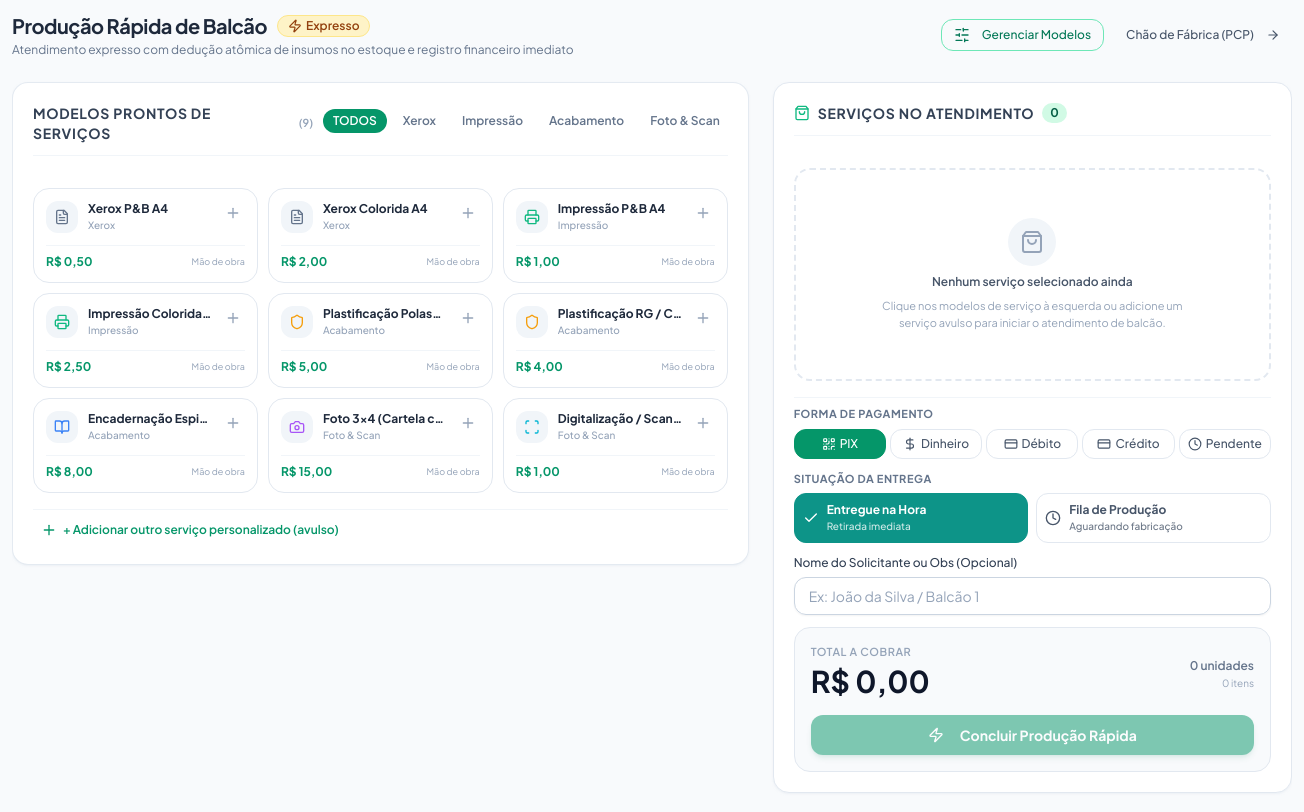
Test: QuickProductionPage › allows adding a custom service and removing items
// Click to add custom service
Click the button "+ Adicionar outro serviço personalizado (avulso)" at {"x": 190, "y": 530}, box [33,518,347,542]
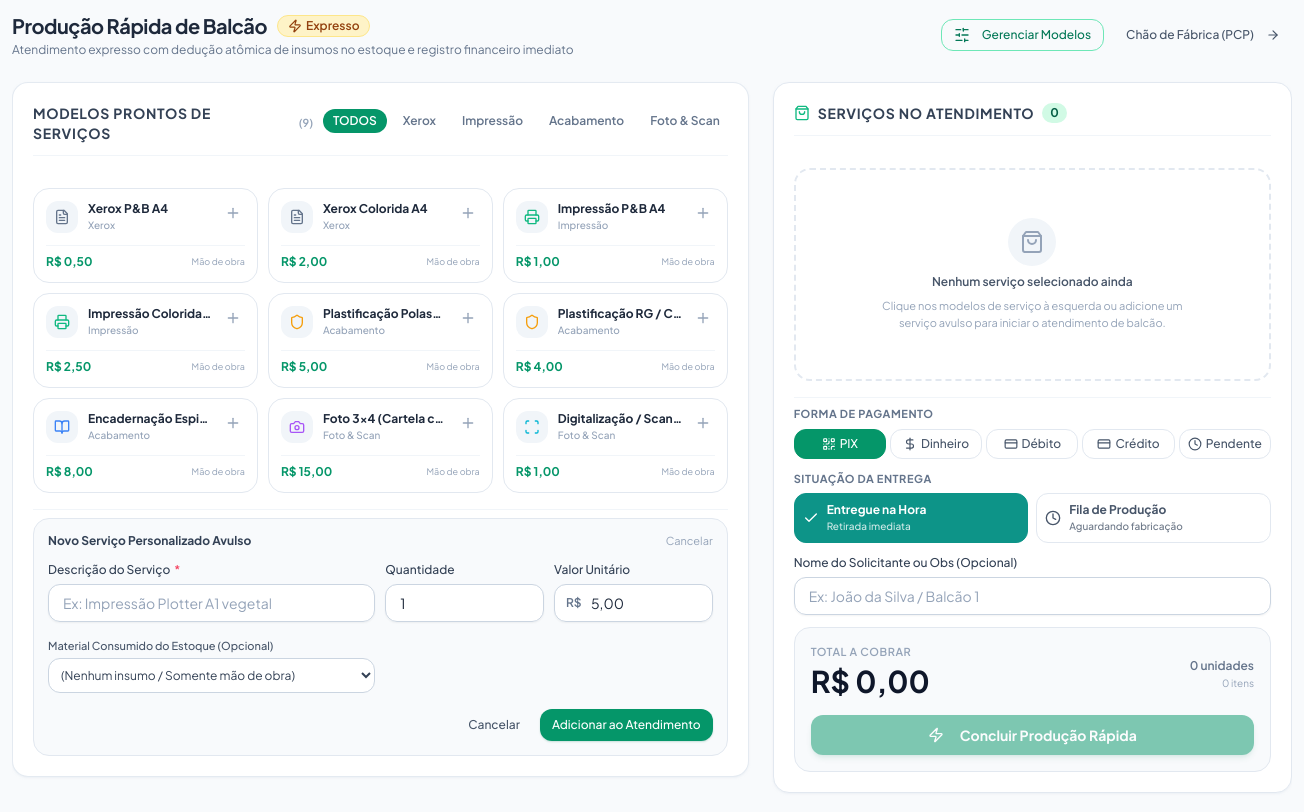
// Fill form
Type "Banner Lona 1x1m" into the field with placeholder "Ex: Impressão Plotter A1 vegetal" at {"x": 212, "y": 602}, box [48,584,375,622]
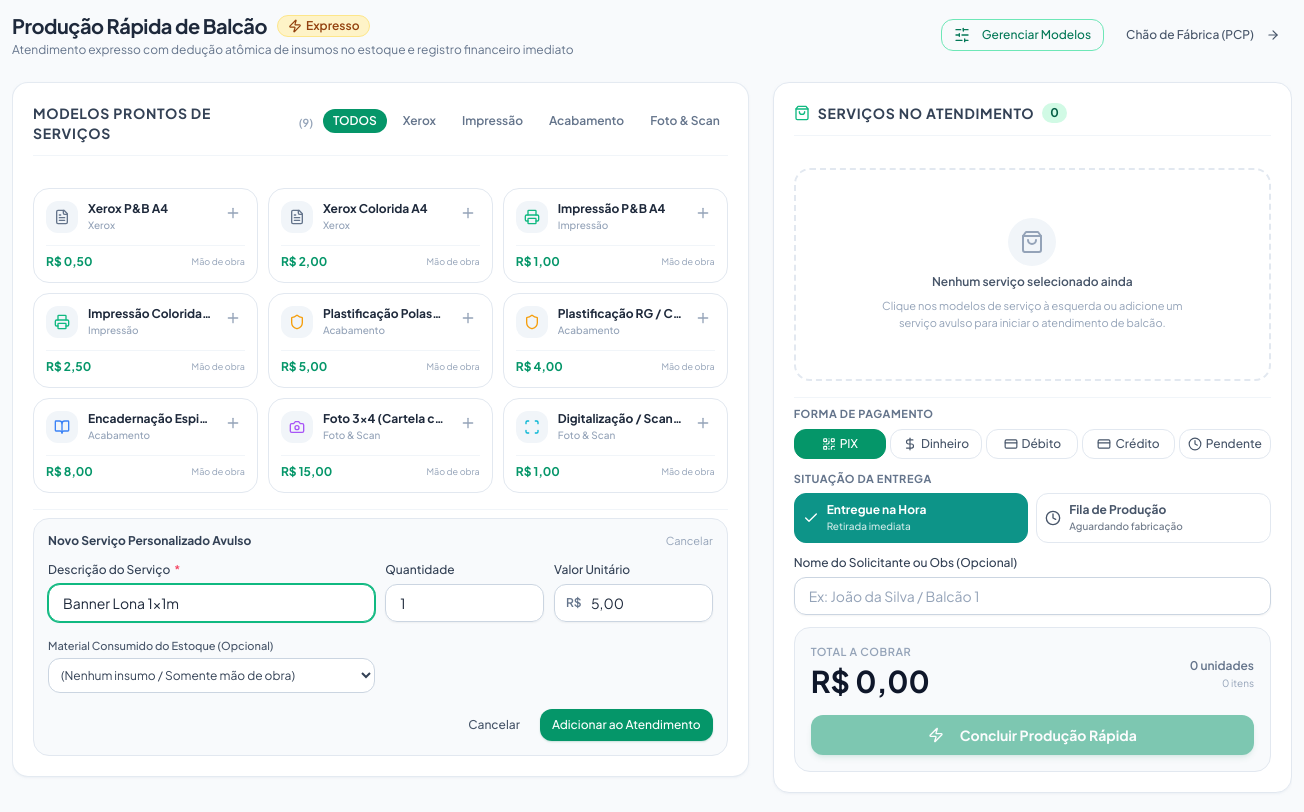
Click the button "Adicionar ao Atendimento" at {"x": 626, "y": 725}, box [540,709,713,741]
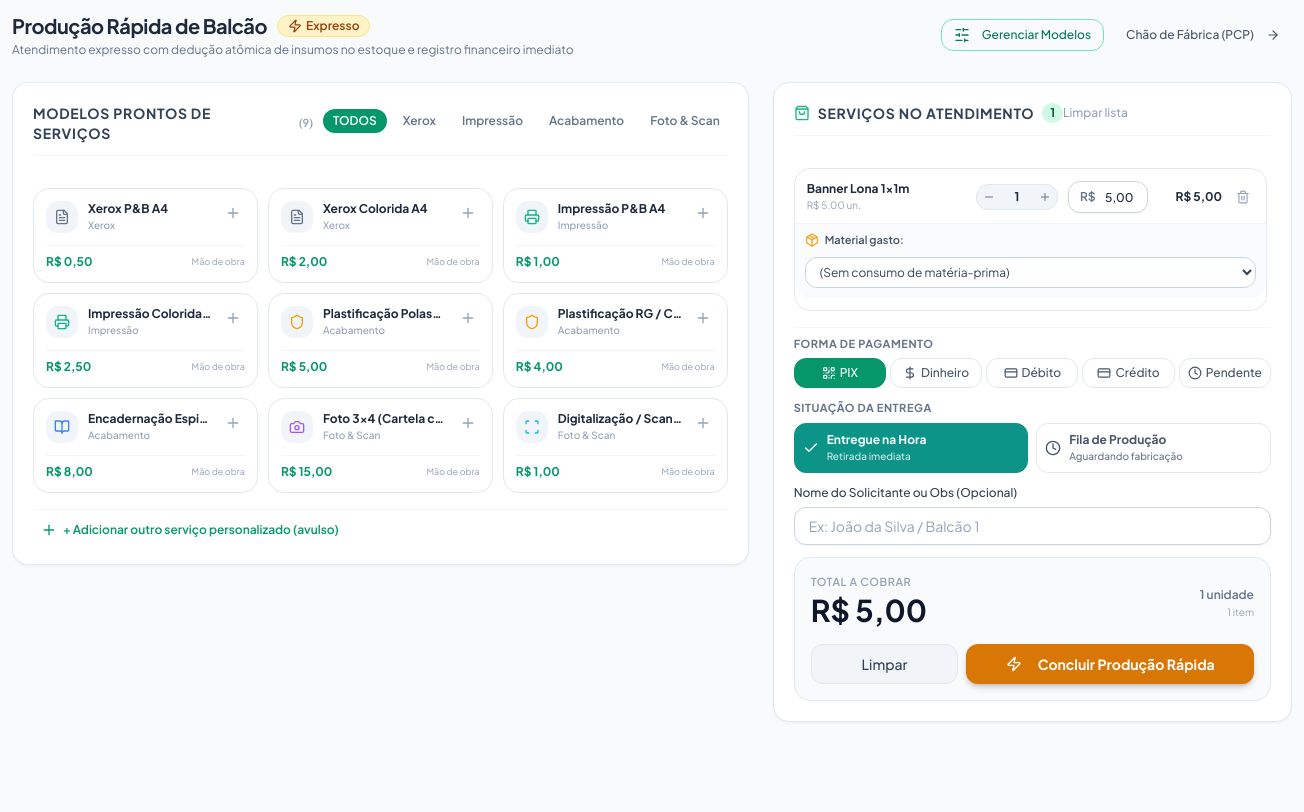
Check: the text "Banner Lona 1x1m" is shown, box [807,181,909,196]
Check: the button "Concluir Produção Rápida" is enabled, box [966,644,1254,684]
// Now remove item
Click the button named "remover banner lona 1x1m" at {"x": 1243, "y": 197}, box [1232,186,1254,208]
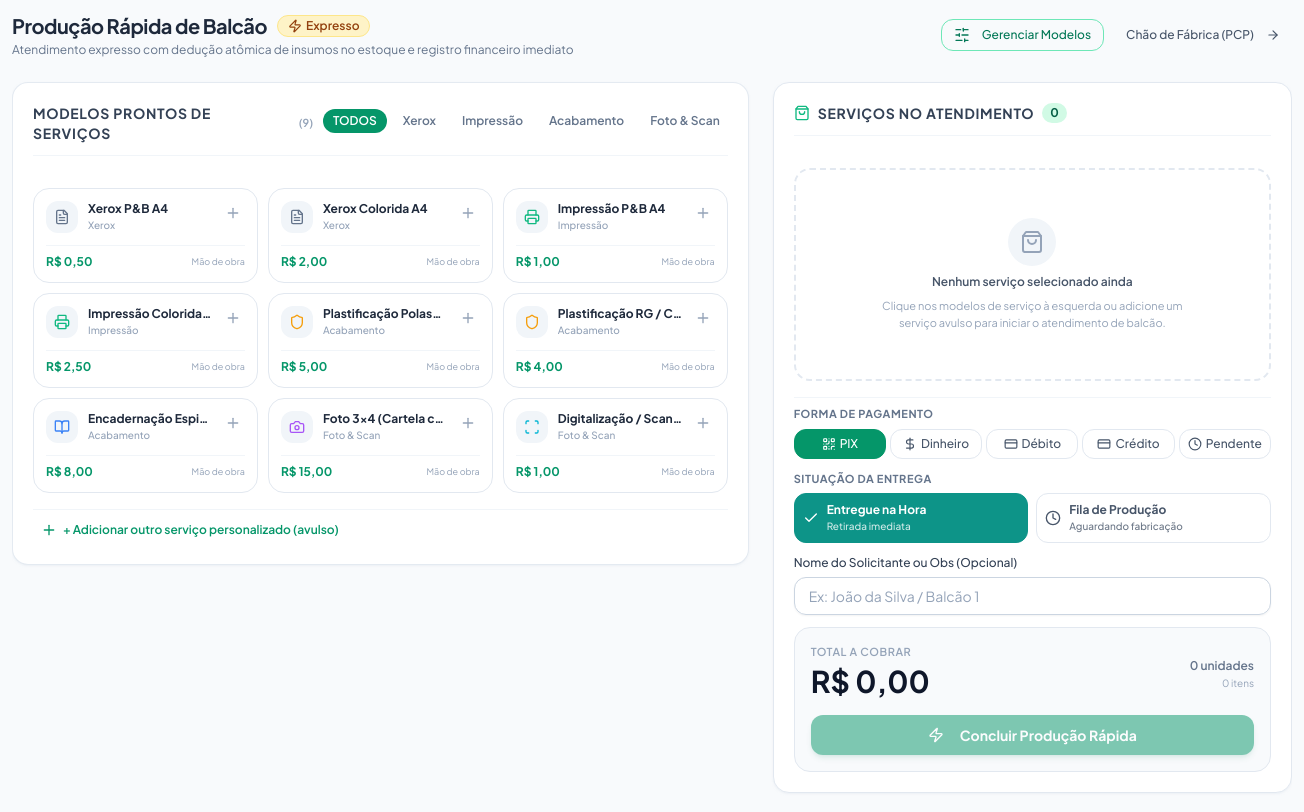
Check: the text "Banner Lona 1x1m" is gone
Check: the text "Nenhum serviço selecionado ainda" is shown, box [932,274,1133,289]
